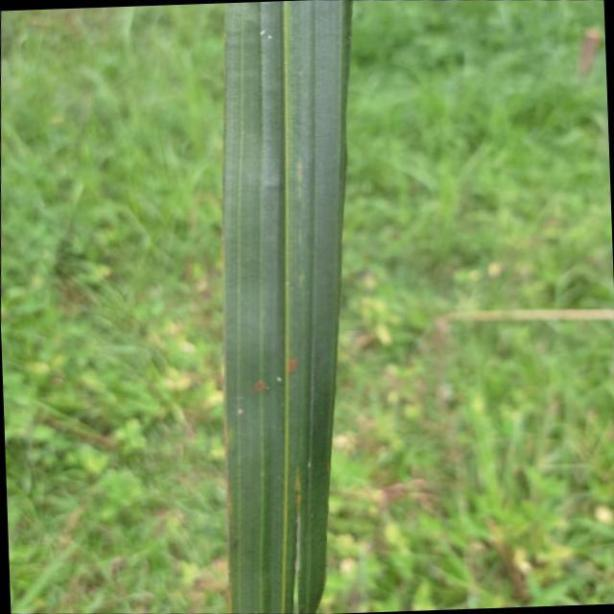Boron: (227, 0, 350, 614)
